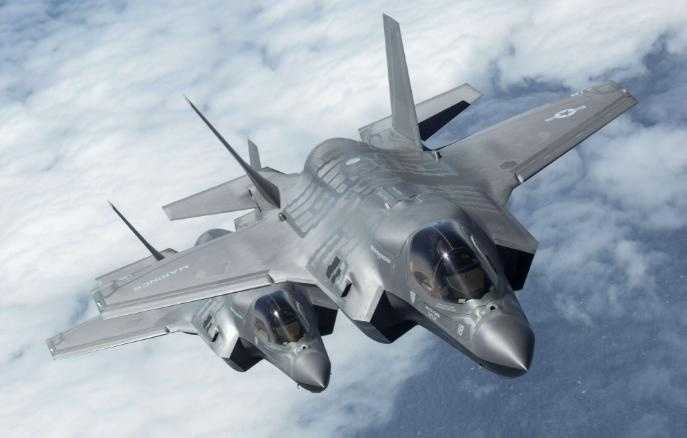airplane: (93, 12, 639, 376), (39, 145, 368, 397)
